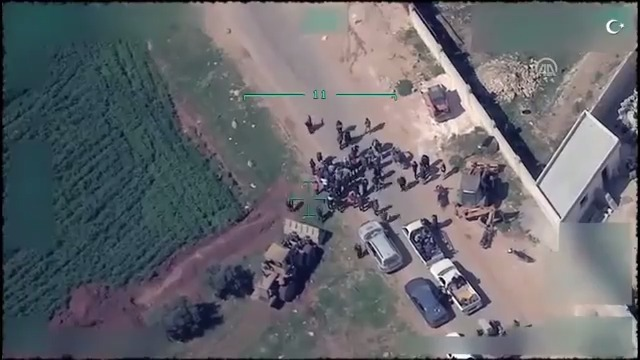arac: (246, 217, 340, 309), (447, 154, 522, 245), (357, 215, 409, 277)
bina: (530, 107, 622, 228)
insan: (426, 256, 485, 318), (399, 272, 455, 327), (417, 80, 457, 128), (300, 108, 323, 135), (362, 112, 381, 134), (392, 173, 412, 193)
